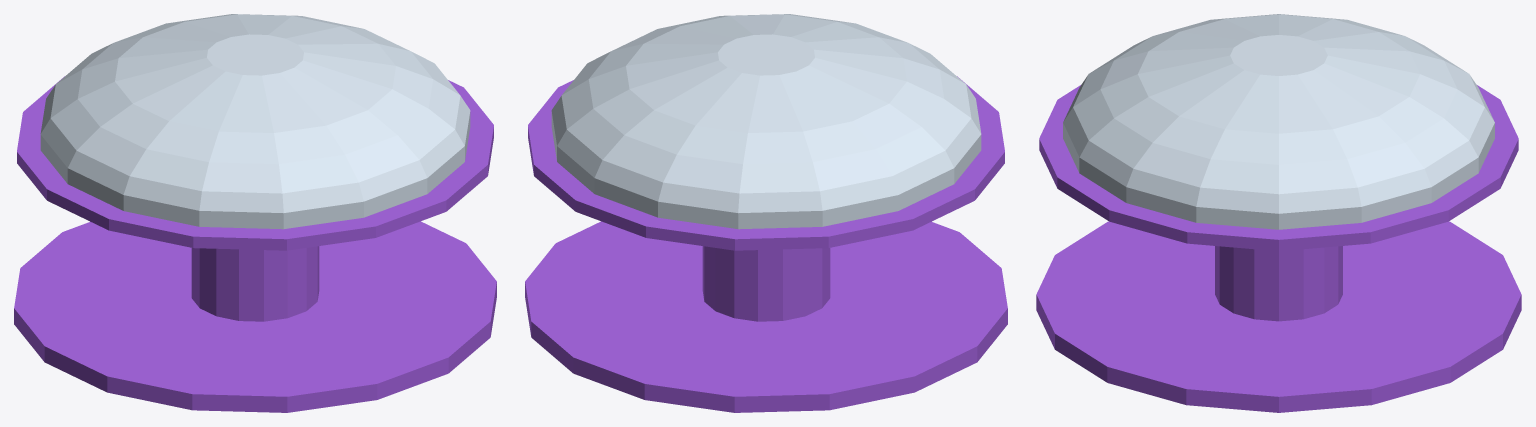
Rendered from bumper.glb.
3 views of the same model, side by side, from view 1: azimuth 30°, elevation 25°; view 2: azimuth 150°, elevation 25°; view 3: azimuth 270°, elevation 25° (orthographic).
Visible parts, largest first — view 1: Cylinder; view 2: Cylinder; view 3: Cylinder.
Part boxes in pixels (x1,y1,x2,y2): Cylinder: (14, 14, 496, 412); Cylinder: (525, 14, 1007, 412); Cylinder: (1036, 14, 1521, 412).
Bounding box in the file's own units: 2 × 1.16 × 2.
